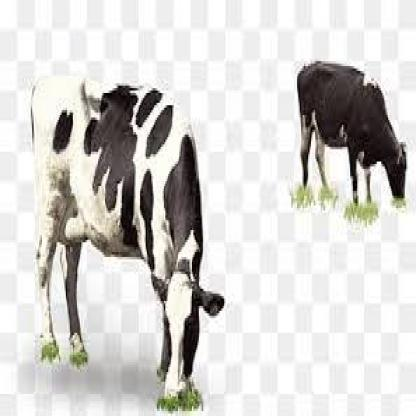cow: (32, 78, 224, 402), (298, 61, 406, 206)
